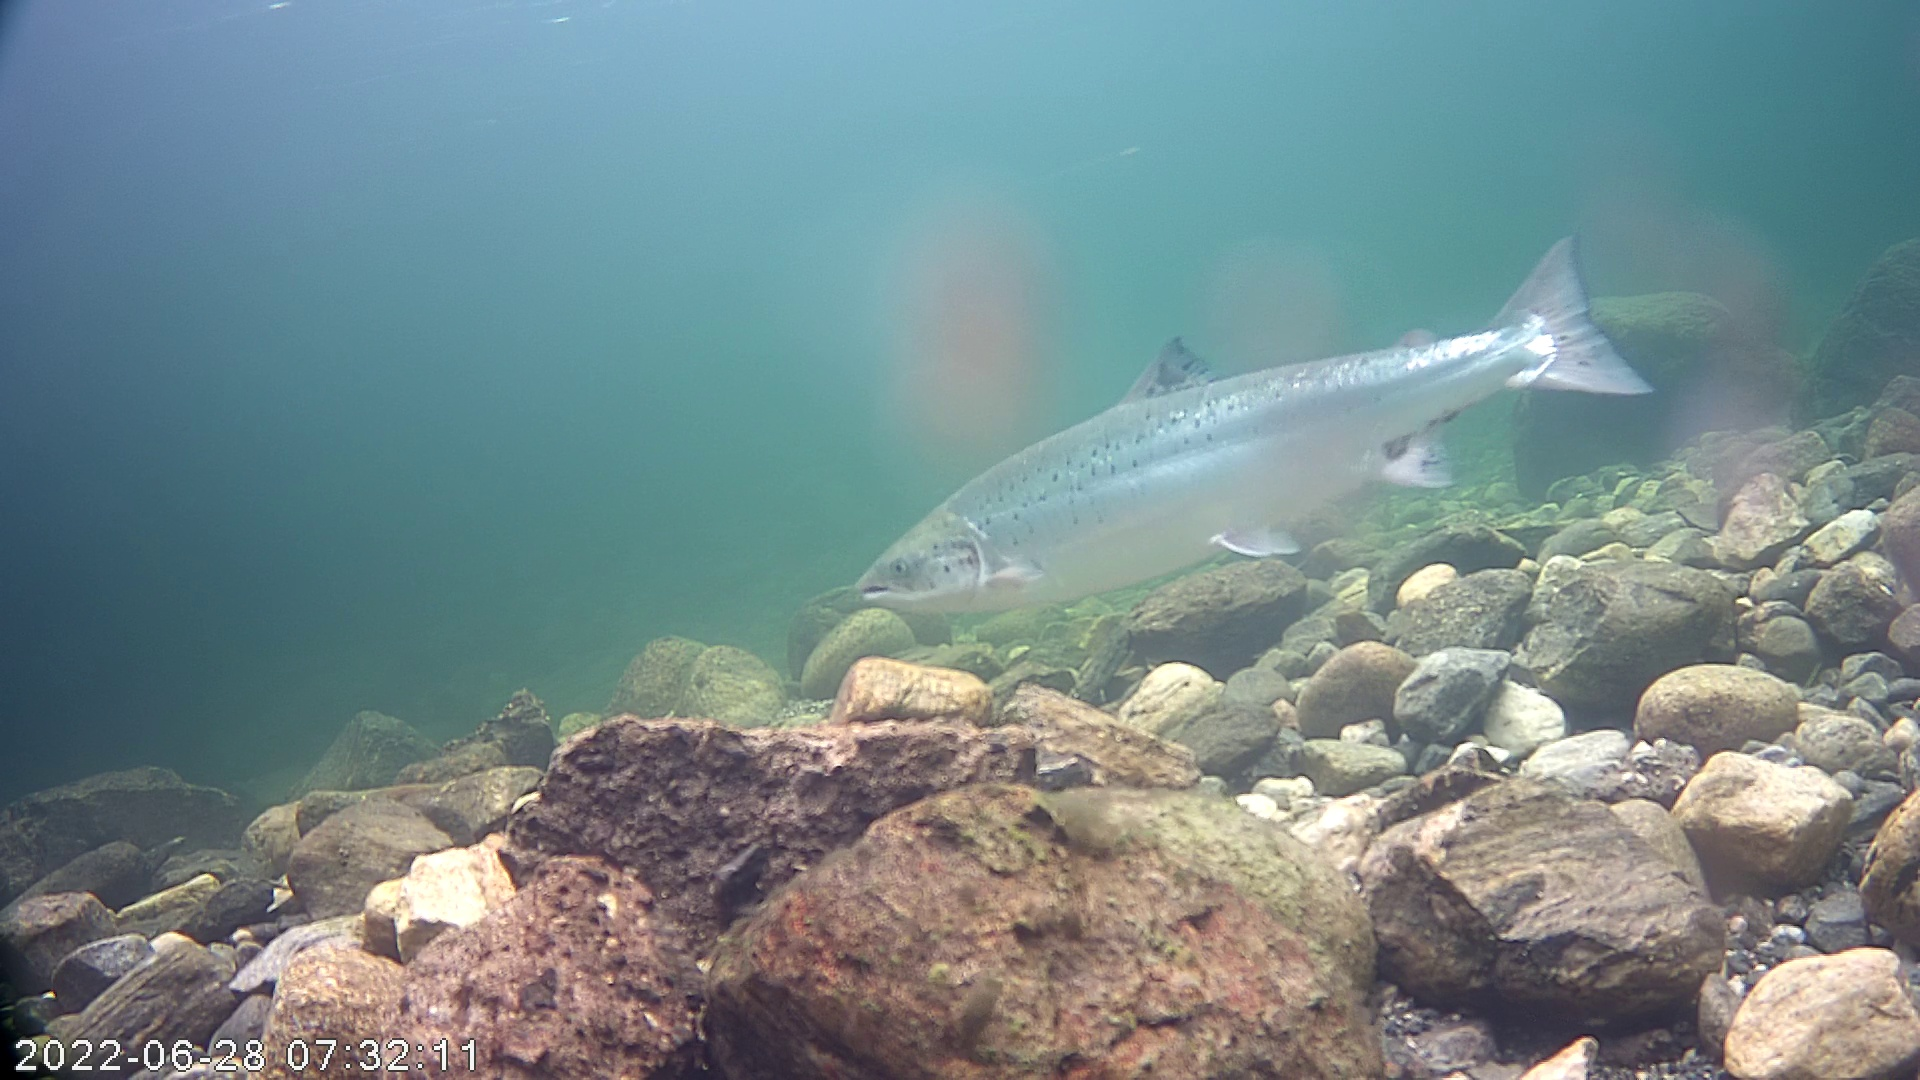salmon: (848, 204, 1677, 640)
